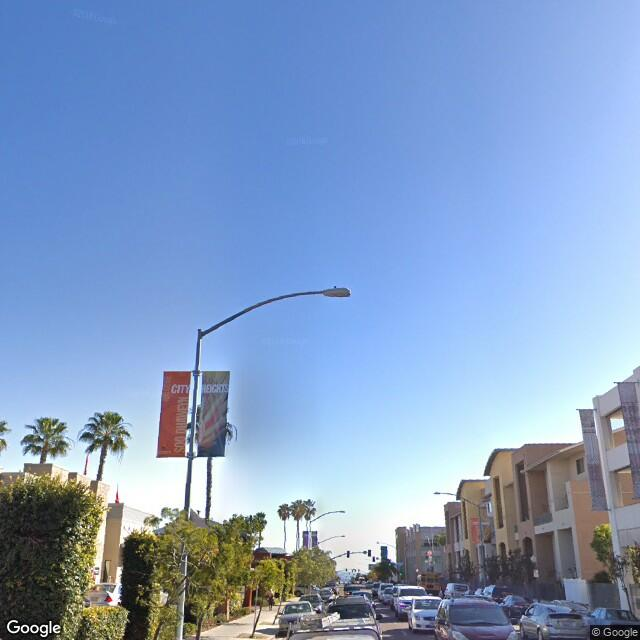light: (323, 284, 352, 298)
